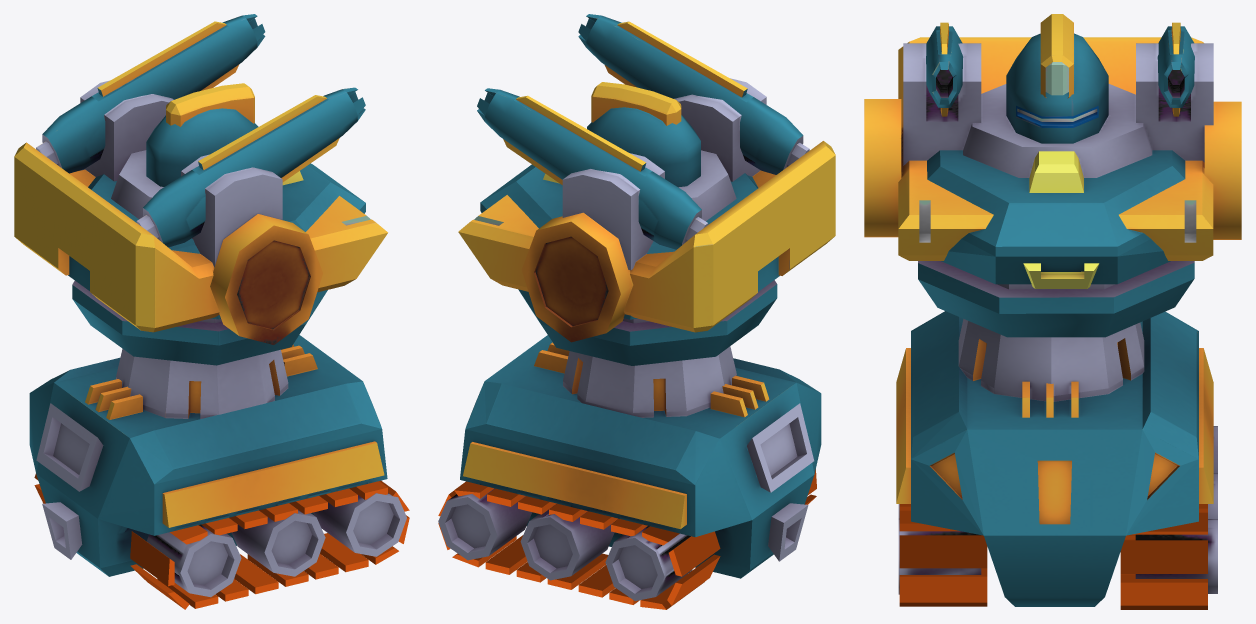
Rendered from Player_Idle4.obj.
3 views of the same model, side by side, from view 1: azimuth 30°, elevation 25°; view 2: azimuth 150°, elevation 25°; view 3: azimuth 270°, elevation 25° (orthographic). The views are drawn at different scales.
Parts seen in each view (by area): view 1: Object004, Object008, Object014, Box009, Box017; view 2: Object004, Object008, Object014, Box009, Box016; view 3: Object004, Object008, Box016, Box017, Object014, Box009.
Part boxes in pixels (left/top/right/bottom): Object004: left=14, top=80, right=387, bottom=365; Object008: left=29, top=335, right=387, bottom=576; Object014: left=36, top=14, right=365, bottom=247; Box009: left=146, top=493, right=406, bottom=597; Box017: left=130, top=480, right=409, bottom=609; Object004: left=458, top=78, right=835, bottom=365; Object008: left=460, top=335, right=821, bottom=578; Object014: left=477, top=14, right=809, bottom=249; Box009: left=438, top=488, right=692, bottom=600; Box016: left=438, top=481, right=720, bottom=609; Object004: left=864, top=14, right=1241, bottom=337; Object008: left=896, top=311, right=1213, bottom=606; Box016: left=1120, top=504, right=1207, bottom=609; Box017: left=899, top=504, right=987, bottom=606; Object014: left=926, top=22, right=1194, bottom=116; Box009: left=898, top=426, right=1217, bottom=594.
Size of the model in its own units: 54.79 by 82.26 by 52.49.
2 materials, 1 textured.
